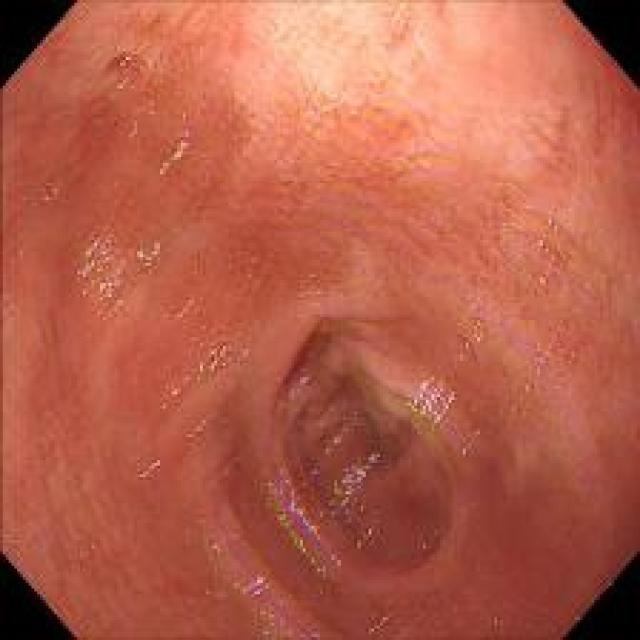blur: (1, 1, 635, 636)
bubbles: (96, 44, 158, 106), (538, 212, 559, 291), (545, 328, 579, 370), (529, 350, 565, 389), (519, 376, 534, 396), (508, 399, 520, 418)
color misalignment: (206, 482, 311, 634), (270, 464, 344, 584), (81, 240, 125, 306), (136, 236, 164, 269), (284, 369, 308, 402)
specularity: (164, 329, 252, 400), (80, 234, 128, 315), (314, 400, 359, 460), (418, 371, 455, 425), (350, 502, 385, 559), (462, 302, 494, 354), (160, 128, 189, 179), (414, 525, 448, 559), (136, 236, 165, 274), (134, 448, 164, 484), (538, 239, 556, 286), (364, 605, 396, 631), (345, 460, 365, 499), (235, 576, 268, 599), (286, 498, 306, 519), (545, 210, 558, 234), (351, 462, 368, 480)
